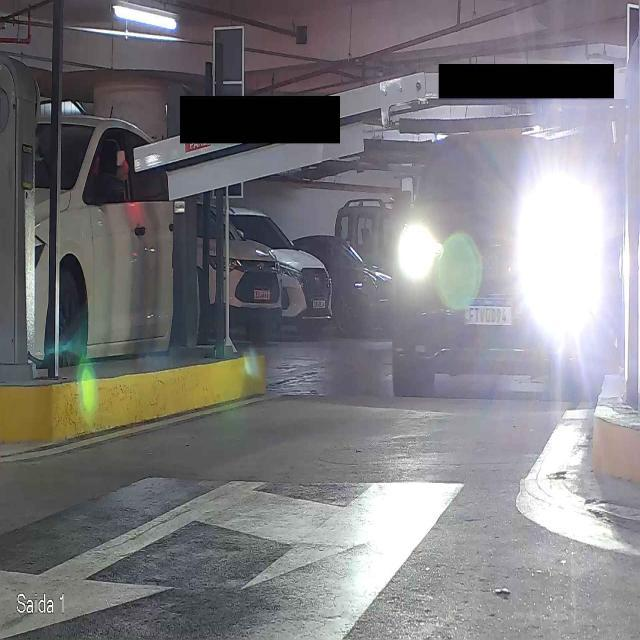mercosul_plate: (462, 298, 514, 327)
